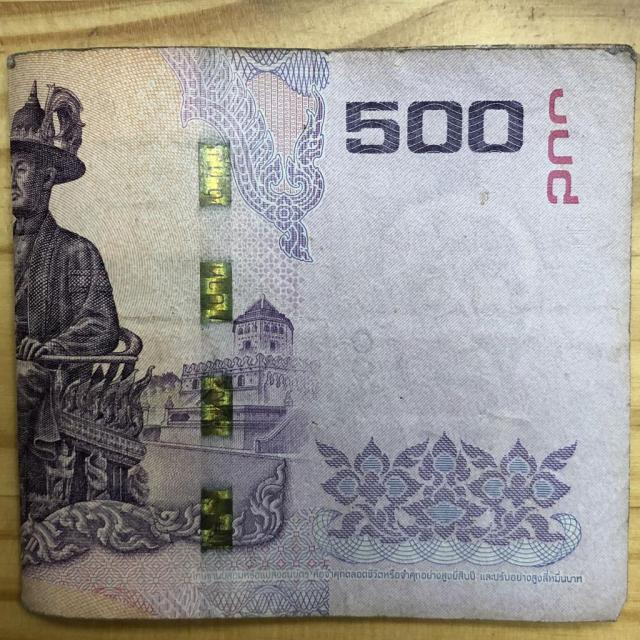THAI500: (6, 43, 639, 629)
